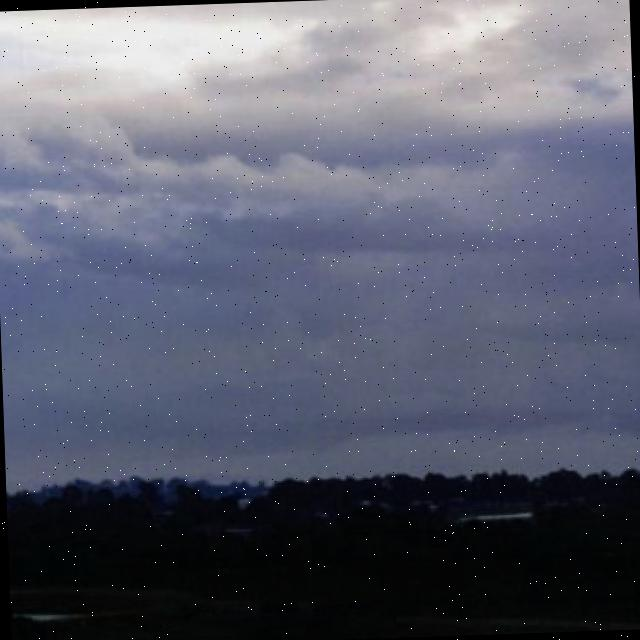Sc: (1, 1, 635, 404)
